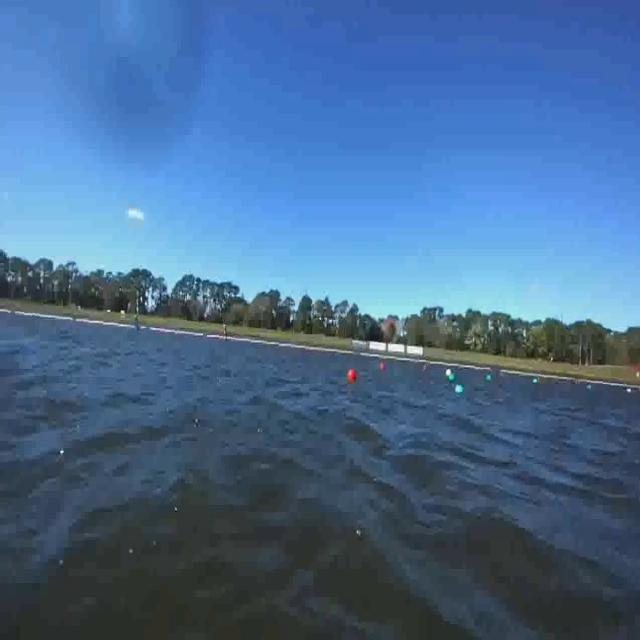green-buoy: (448, 372, 458, 385), (455, 384, 465, 396), (453, 382, 462, 393), (486, 373, 494, 381)
red-buoy: (348, 367, 357, 382), (380, 359, 388, 373)
